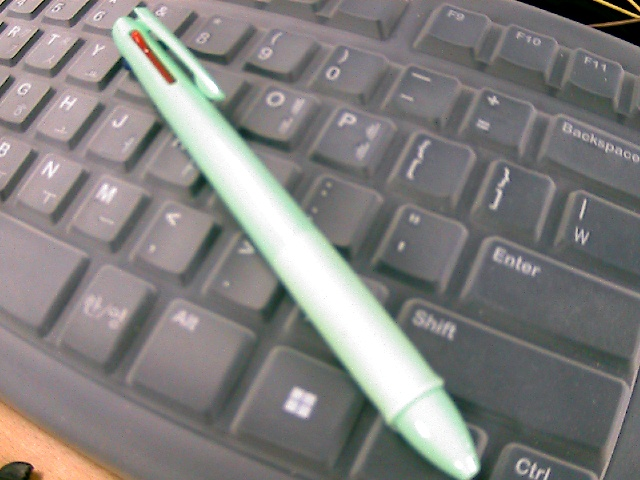pen: (111, 6, 483, 476)
